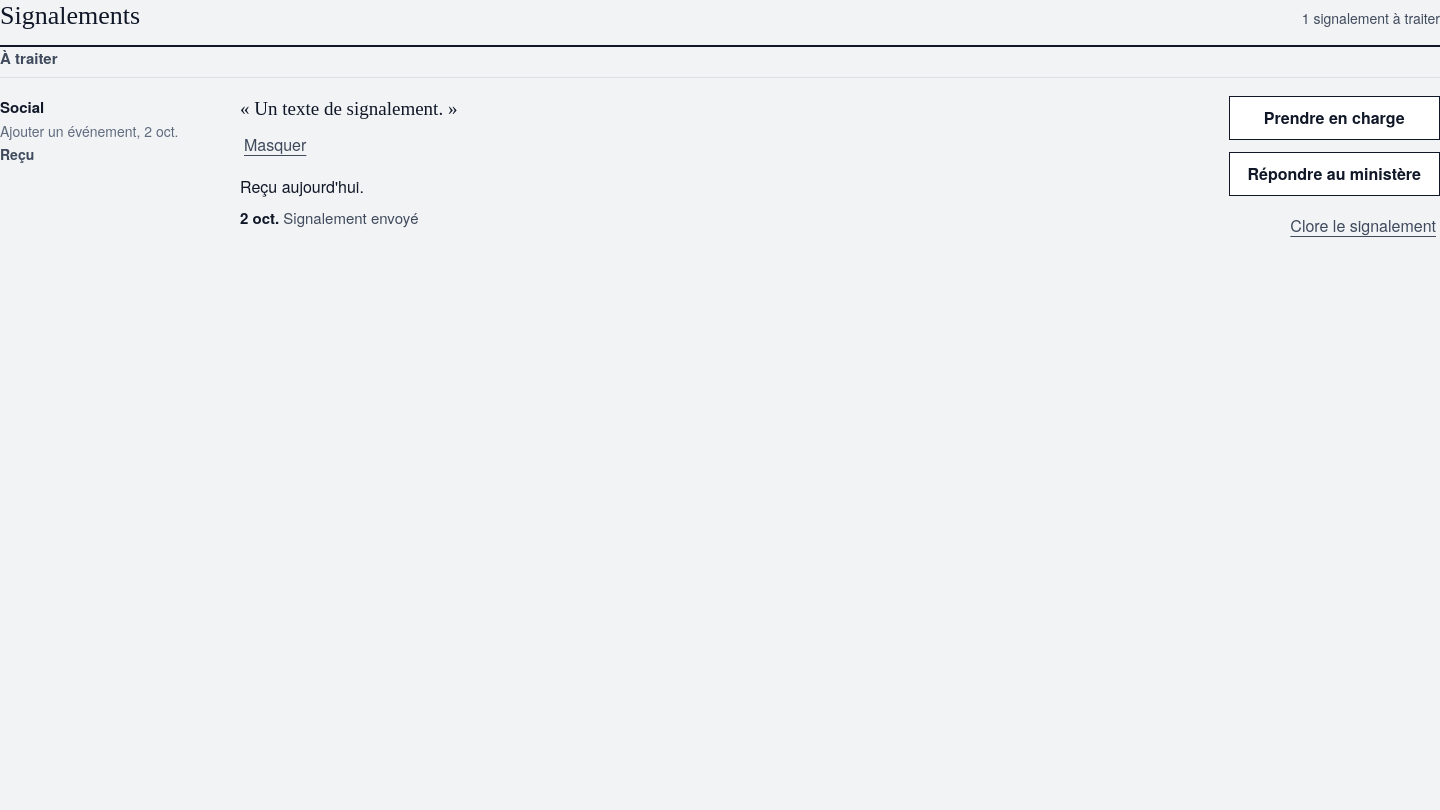
Test: bloc « Signalements » : « Masquer » (T77) › le texte d’un signalement ouvert se masque par la cible « signalement »
The width and height of the screenshot is (1440, 810).
Step 1. Click the button "Masquer" → (275, 145), box x1=240 y1=123 x2=310 y2=167
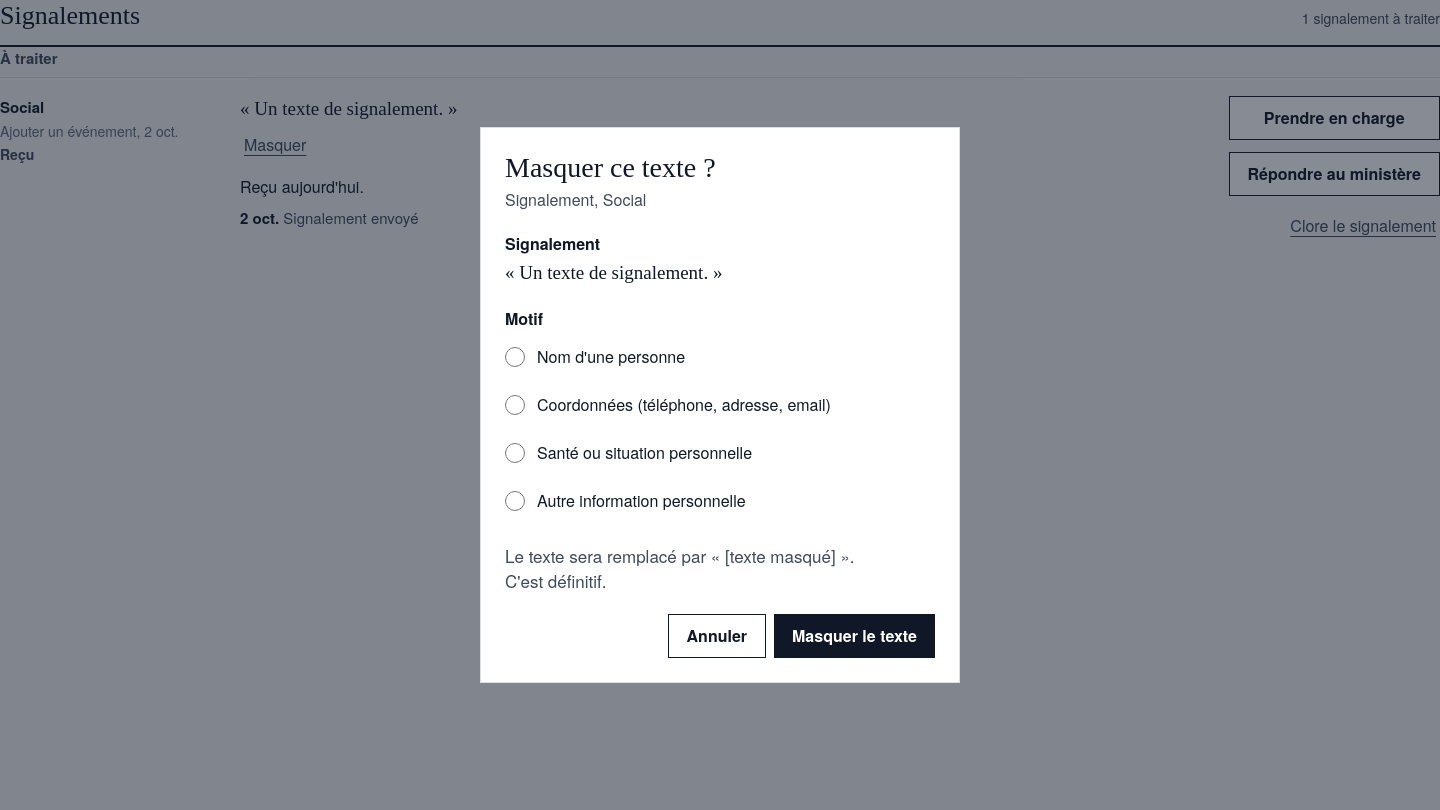
Step 2. Click the radio button labelled "Santé ou situation personnelle" → (515, 453), box x1=505 y1=443 x2=525 y2=463
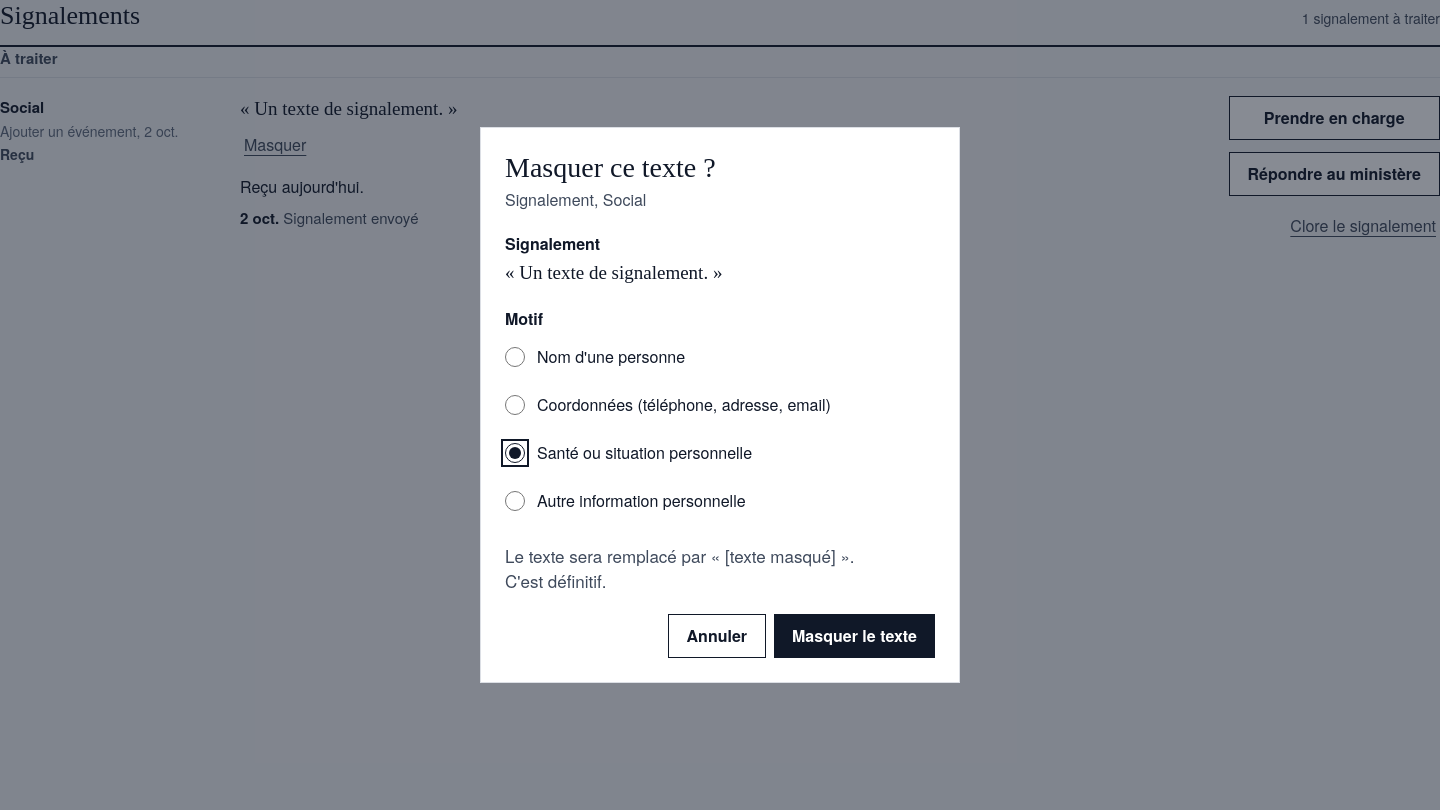
Step 3. Click the button named "Masquer le texte" → (854, 636), box x1=774 y1=614 x2=935 y2=658
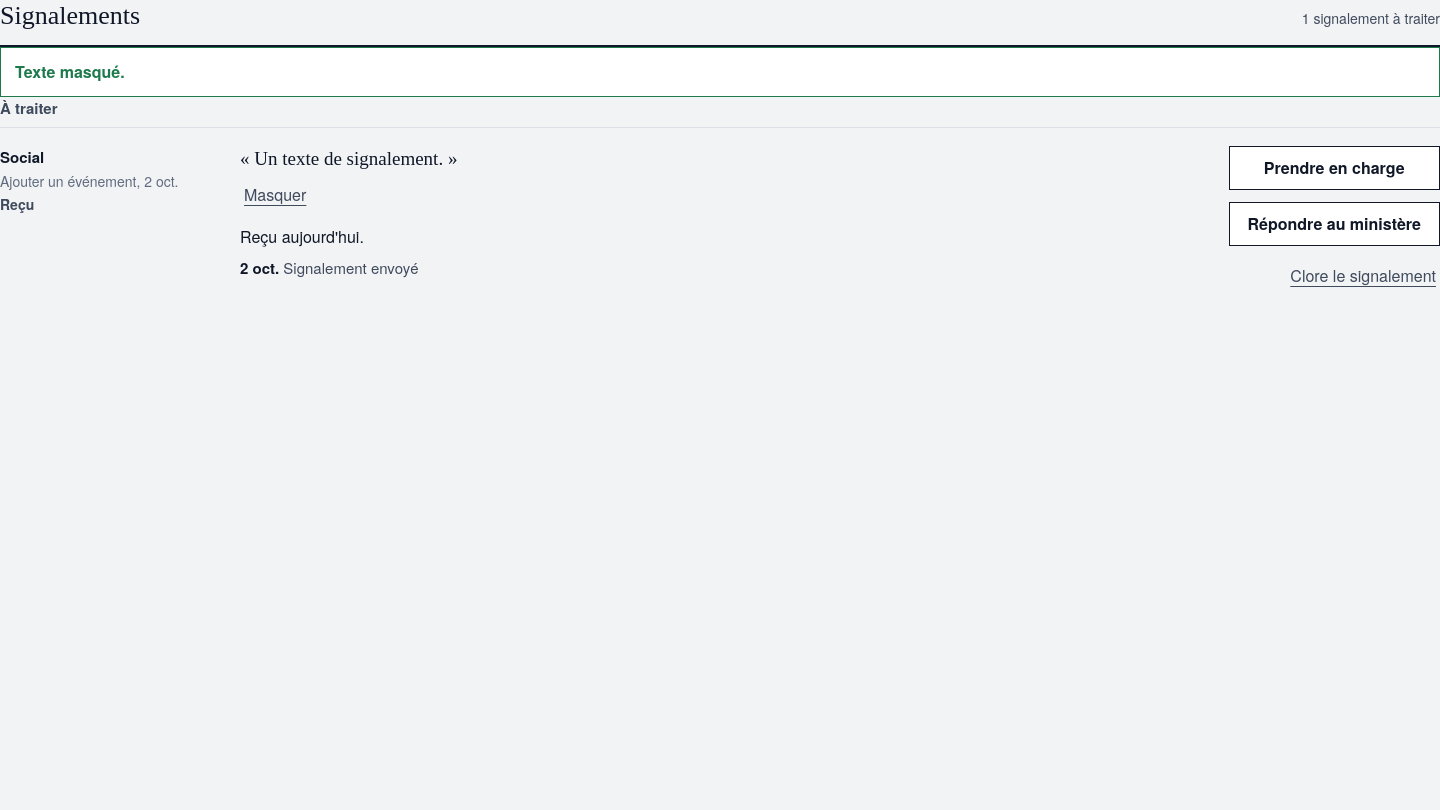
Now the text "Texte masqué." is shown, box x1=0 y1=46 x2=1439 y2=96
